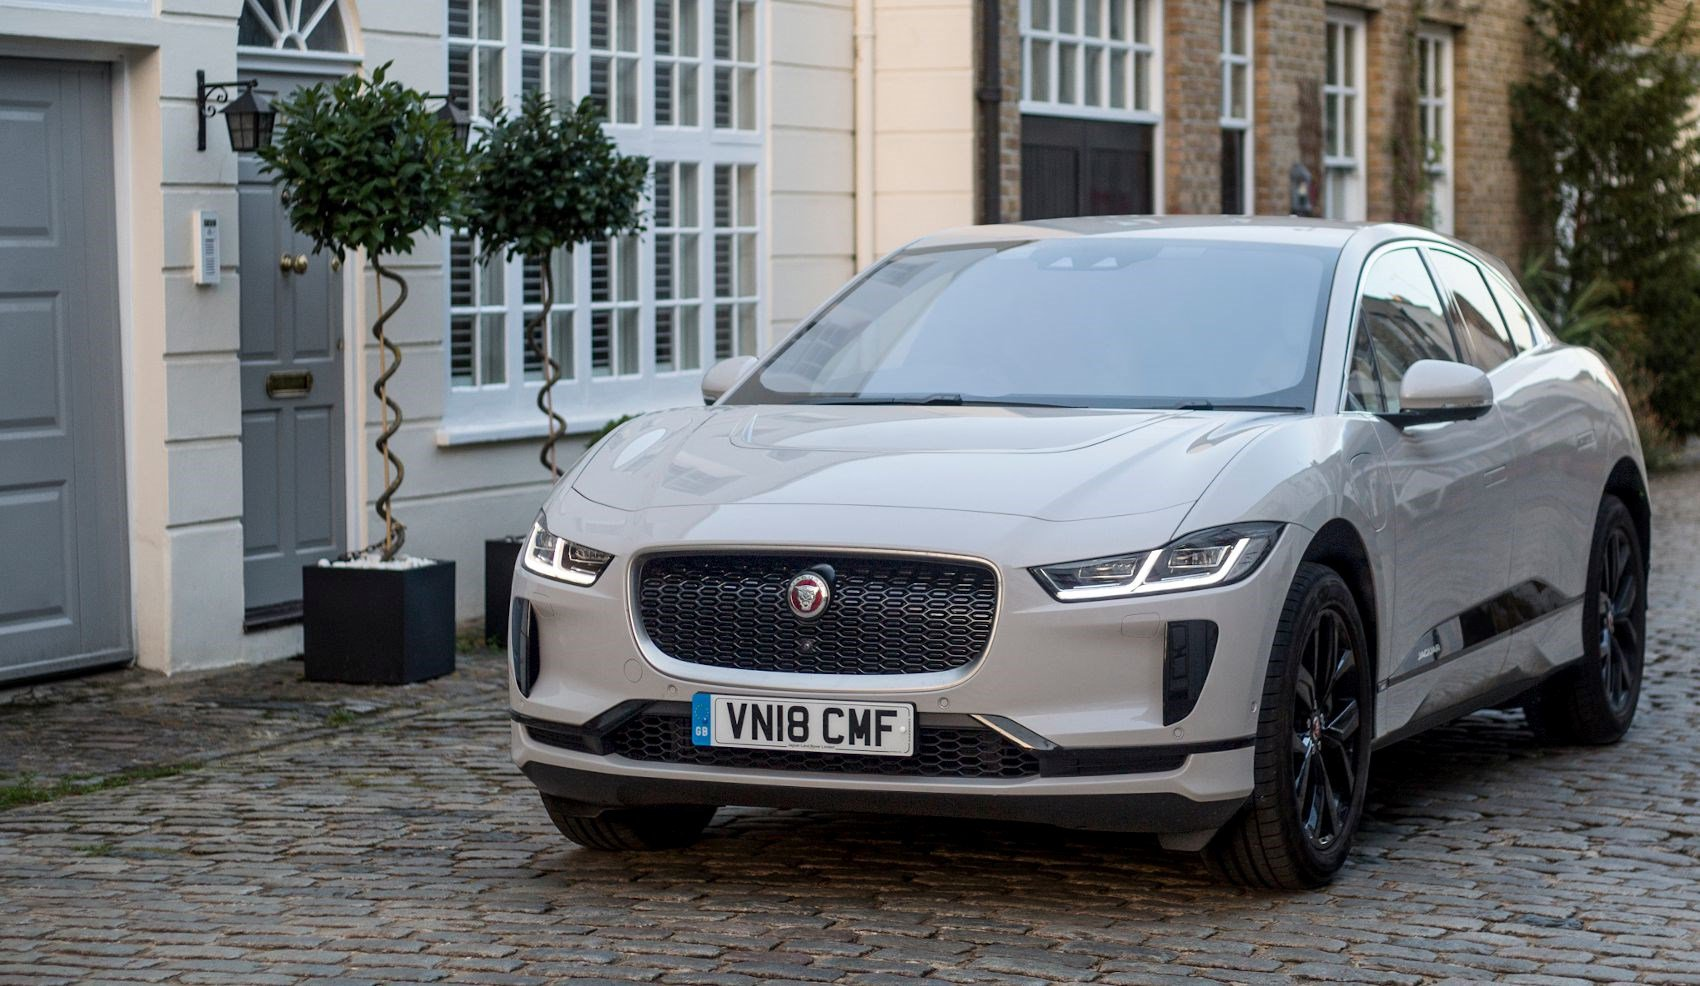car: (515, 211, 1666, 877)
